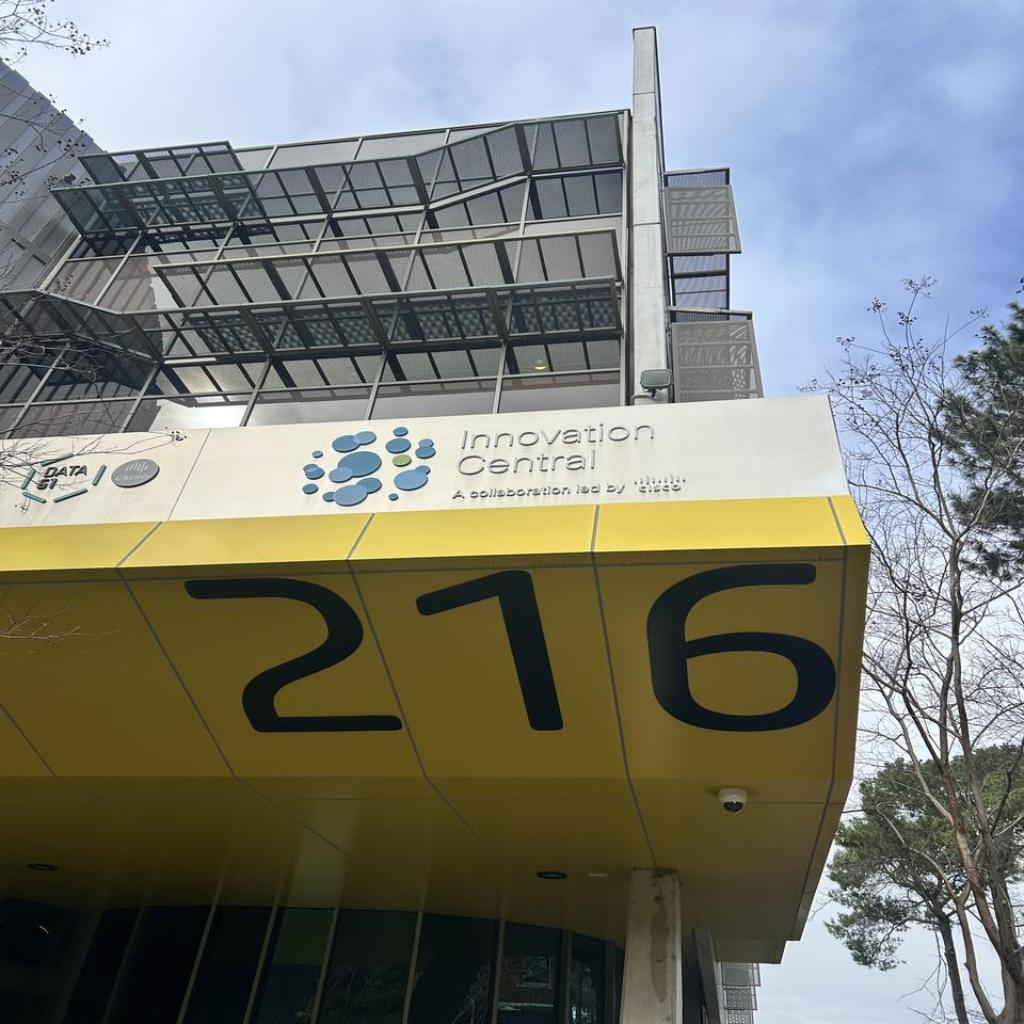BuildingCodes: (182, 554, 840, 740)
